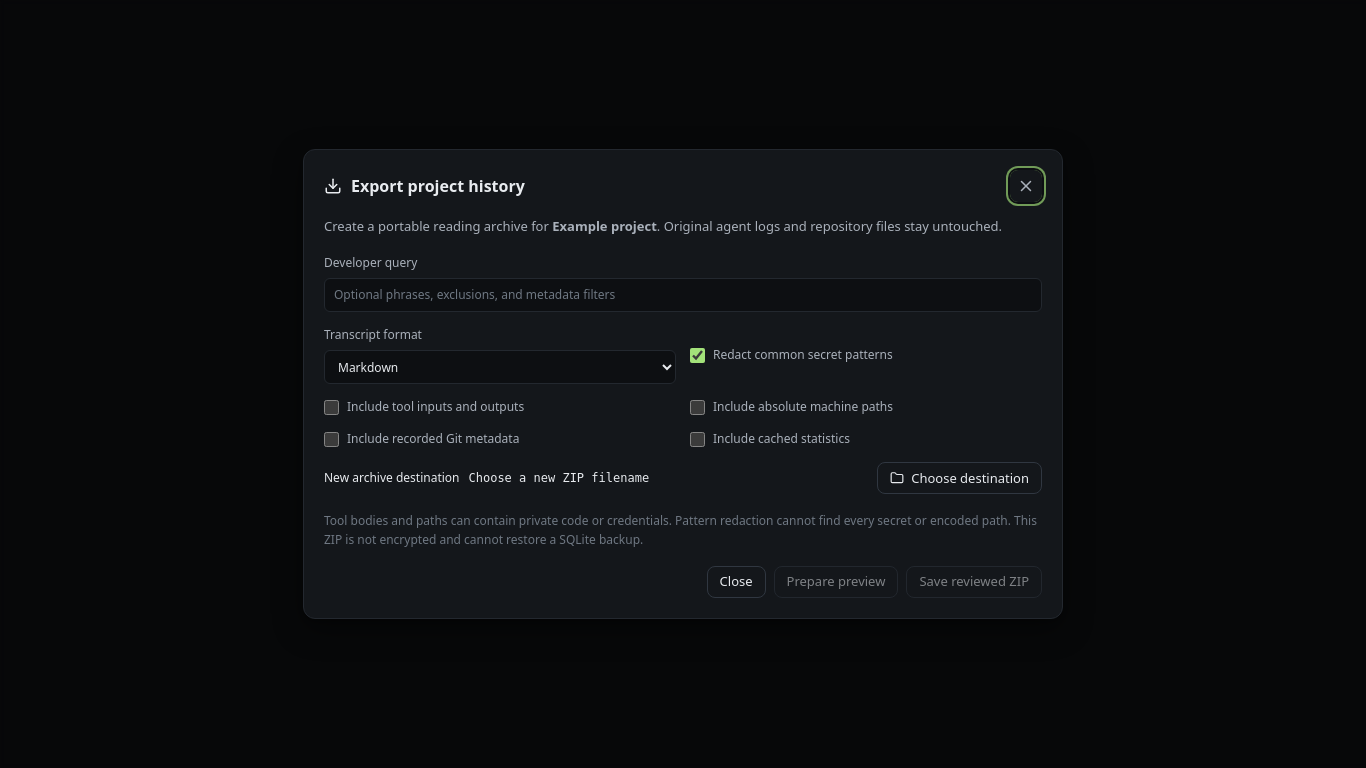
stale library errors require preparation again and destination cancellation creates no job
Click the button "Choose destination". click: x=960, y=478
box: [877,462,1042,494]
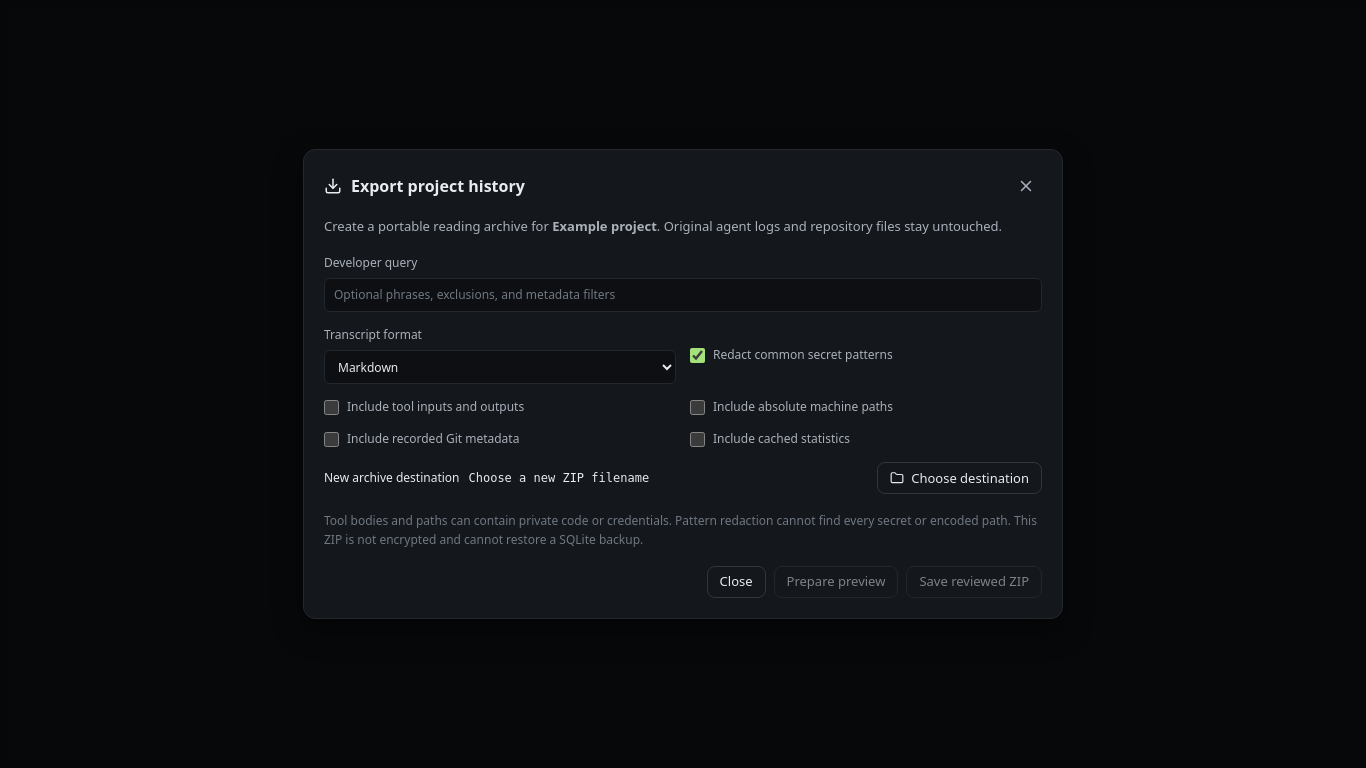
Click the button "Choose destination". click: x=960, y=478
box: [877,462,1042,494]
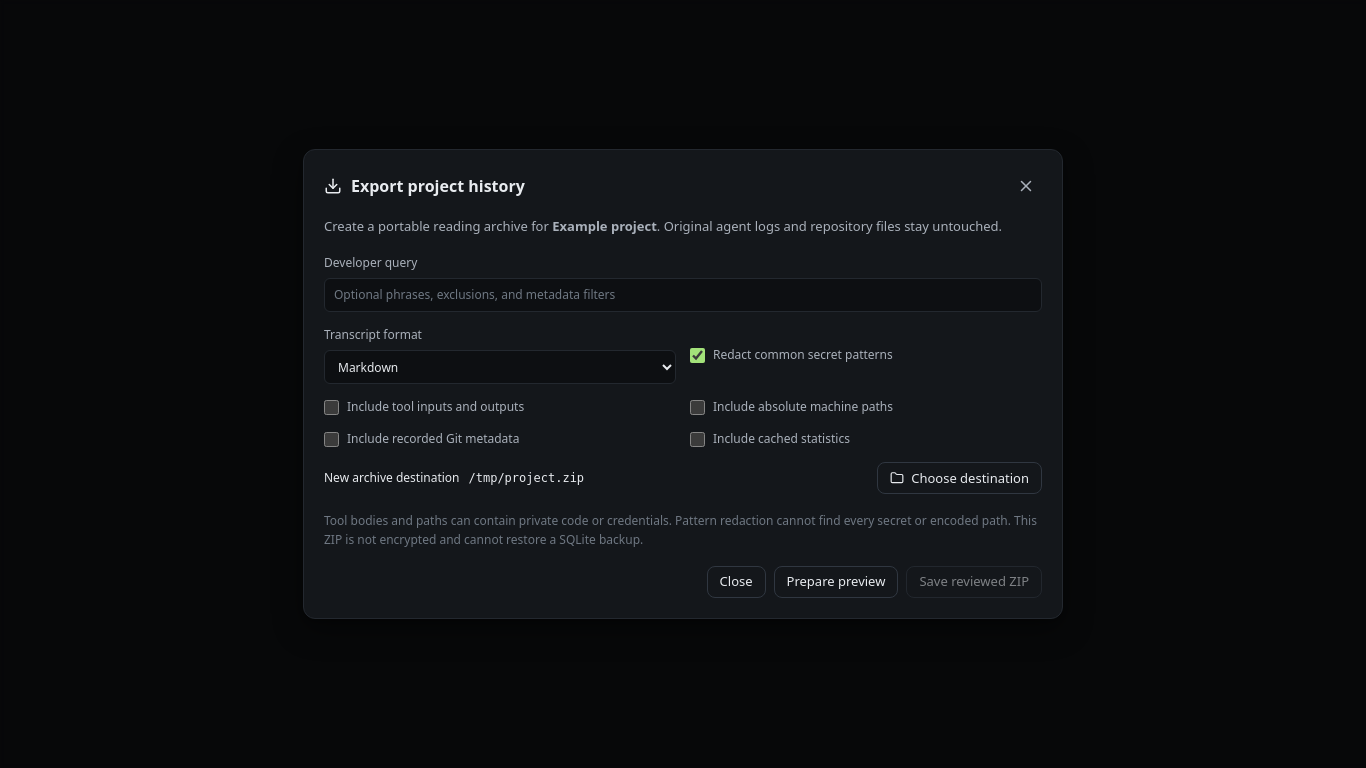
Click the button "Prepare preview". click: x=836, y=582
box: [774,566,898,598]
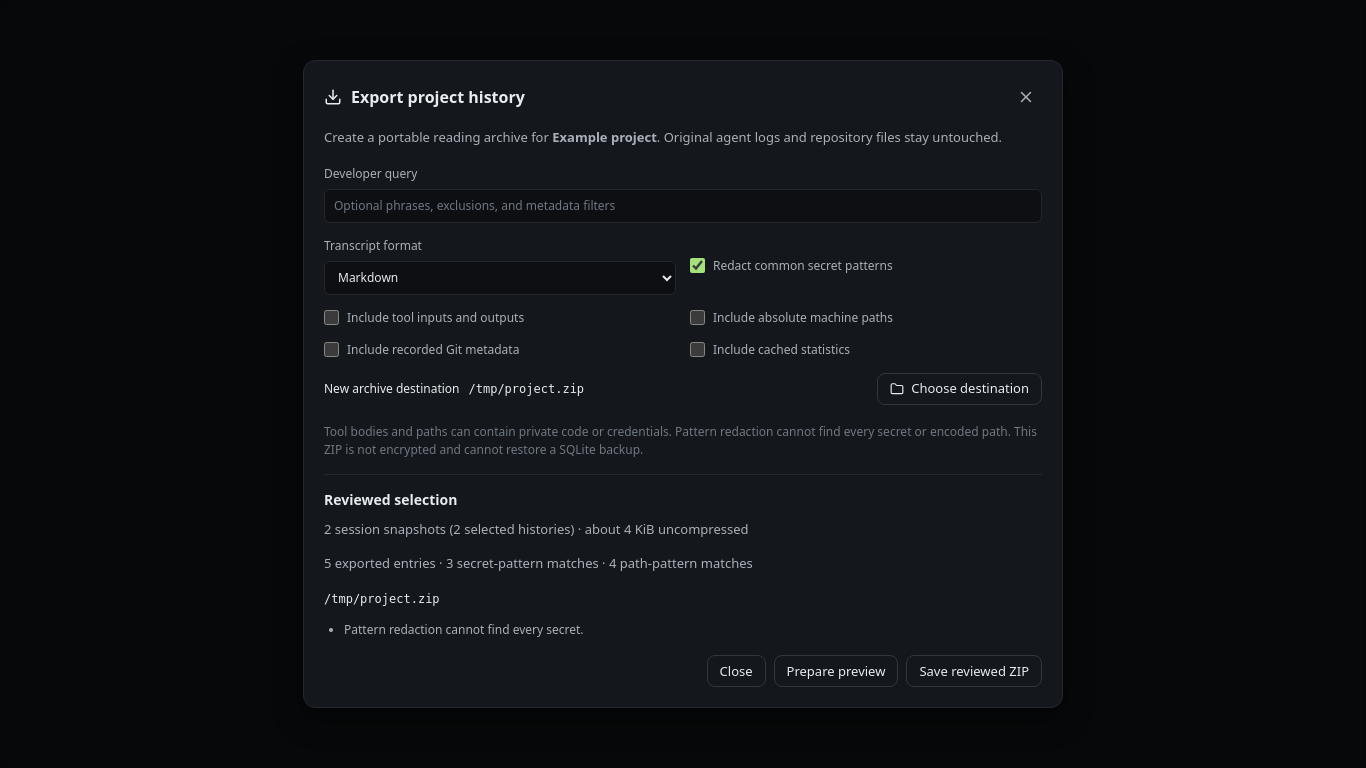
Check: the heading "Reviewed selection" is shown, box [324,490,457,509]
Click the button "Save reviewed ZIP". click: x=974, y=671
box: [906,655,1042,687]
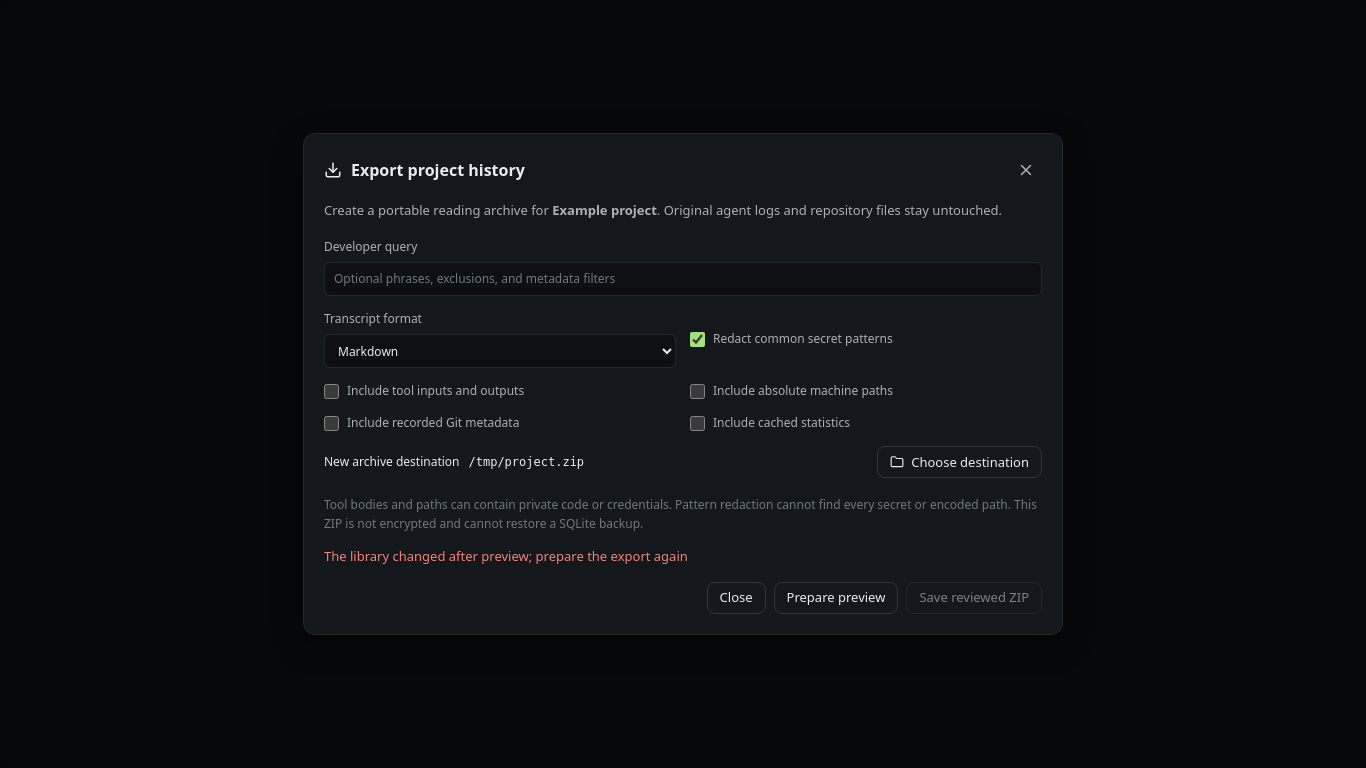
Check: the button "Prepare preview" is enabled, box [774,582,898,614]
Check: the message "The library changed after preview; prepare the export again" is shown, box [324,547,688,565]
Check: the button "Save reviewed ZIP" is disabled, box [906,582,1042,614]
